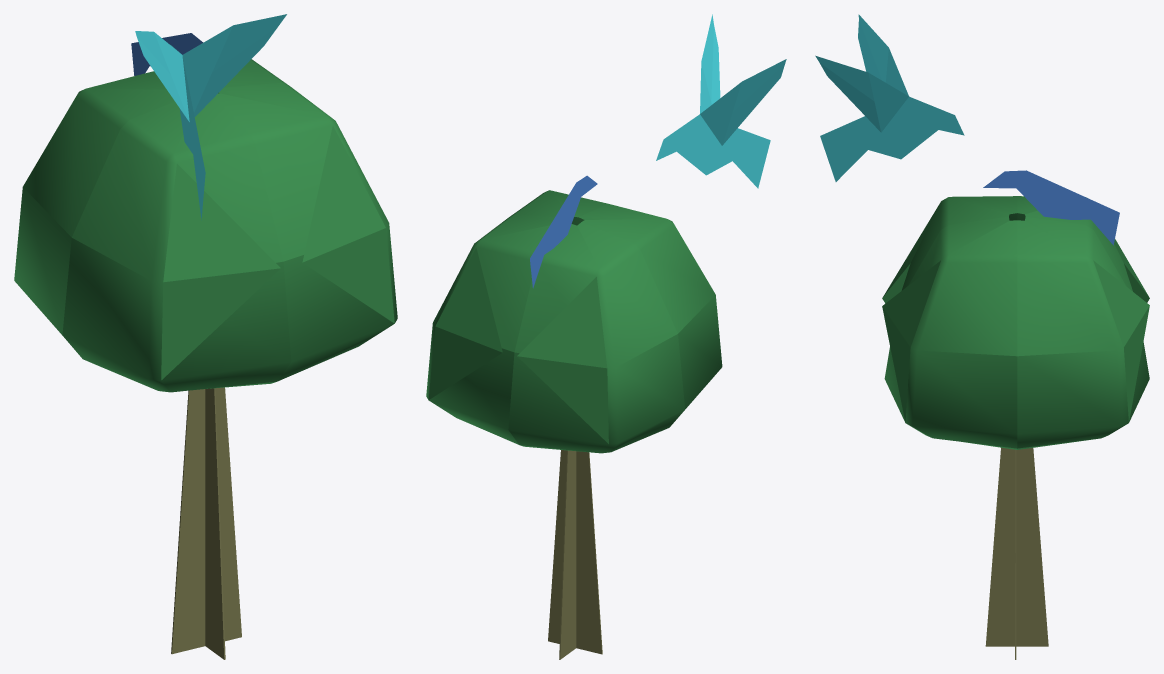
File: TreeSquare_Medium_BIRD.fbx
3 renders of one model, left to right at view 1: azimuth 30°, elevation 25°; view 2: azimuth 150°, elevation 25°; view 3: azimuth 270°, elevation 25°, orthographic. The views are drawn at different scales.
Visible parts, largest first — view 1: TREE_MEDIUM_SQUARE, Plane, Plane.004; view 2: TREE_MEDIUM_SQUARE, Plane, Plane.004; view 3: TREE_MEDIUM_SQUARE, Plane, Plane.004.
Part boxes in pixels (bbox=[...]): TREE_MEDIUM_SQUARE: bbox=[14, 59, 397, 659]; Plane: bbox=[135, 14, 286, 220]; Plane.004: bbox=[131, 33, 203, 75]; TREE_MEDIUM_SQUARE: bbox=[426, 190, 722, 659]; Plane: bbox=[656, 14, 786, 188]; Plane.004: bbox=[530, 175, 597, 288]; TREE_MEDIUM_SQUARE: bbox=[882, 196, 1149, 659]; Plane: bbox=[815, 14, 964, 181]; Plane.004: bbox=[983, 170, 1119, 245].
Size of the model in its own units: 614 by 1368 by 725.
